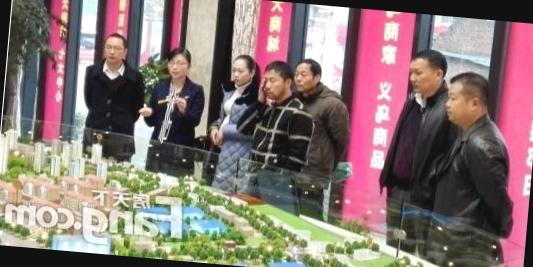no_helmet: (439, 66, 494, 128), (404, 44, 450, 102), (258, 52, 300, 106), (94, 25, 132, 68), (290, 53, 326, 95), (225, 48, 259, 92), (160, 42, 195, 82)
